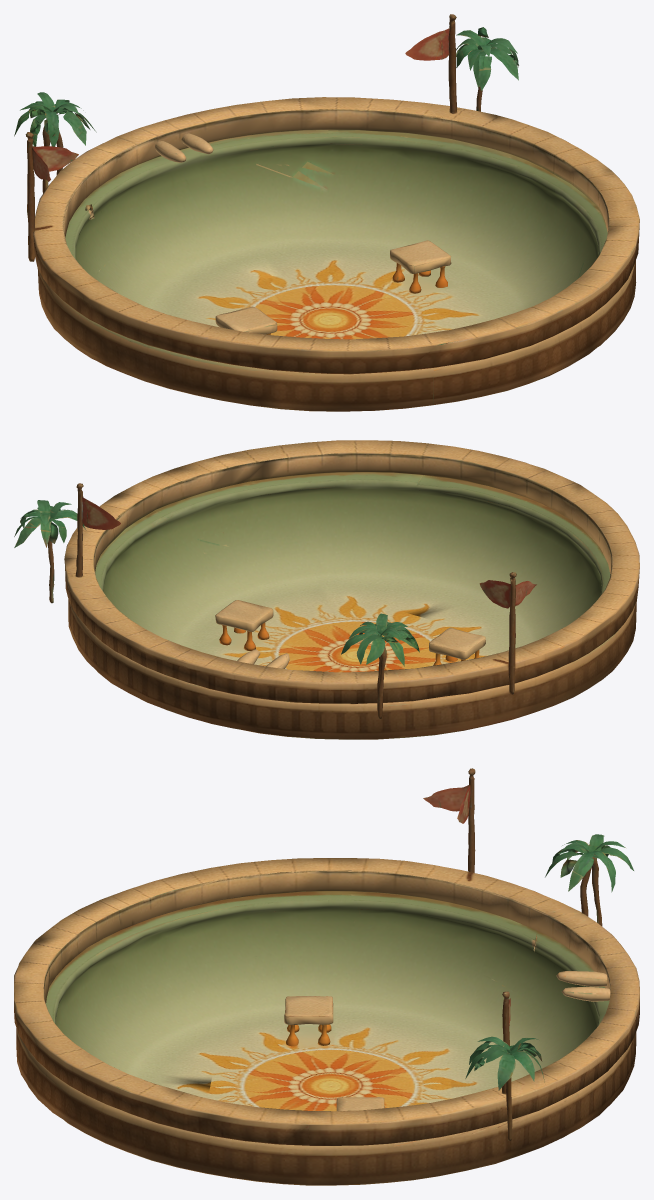
The model's file is motu-contest-bowl.glb.
3 renders of one model, top to bottom at view 1: azimuth 30°, elevation 25°; view 2: azimuth 150°, elevation 25°; view 3: azimuth 270°, elevation 25°, orthographic. The views are drawn at different scales.
Parts seen in each view (by area): view 1: motu-contest-bowl; view 2: motu-contest-bowl; view 3: motu-contest-bowl.
Boxes of the visible parts, bbox=[...] form: motu-contest-bowl: bbox=[14, 14, 639, 411]; motu-contest-bowl: bbox=[14, 440, 639, 739]; motu-contest-bowl: bbox=[14, 768, 639, 1185].
Bounding box in the file's own units: 1 × 0.3685 × 1.
Materials: 1 (1 with a texture image).
